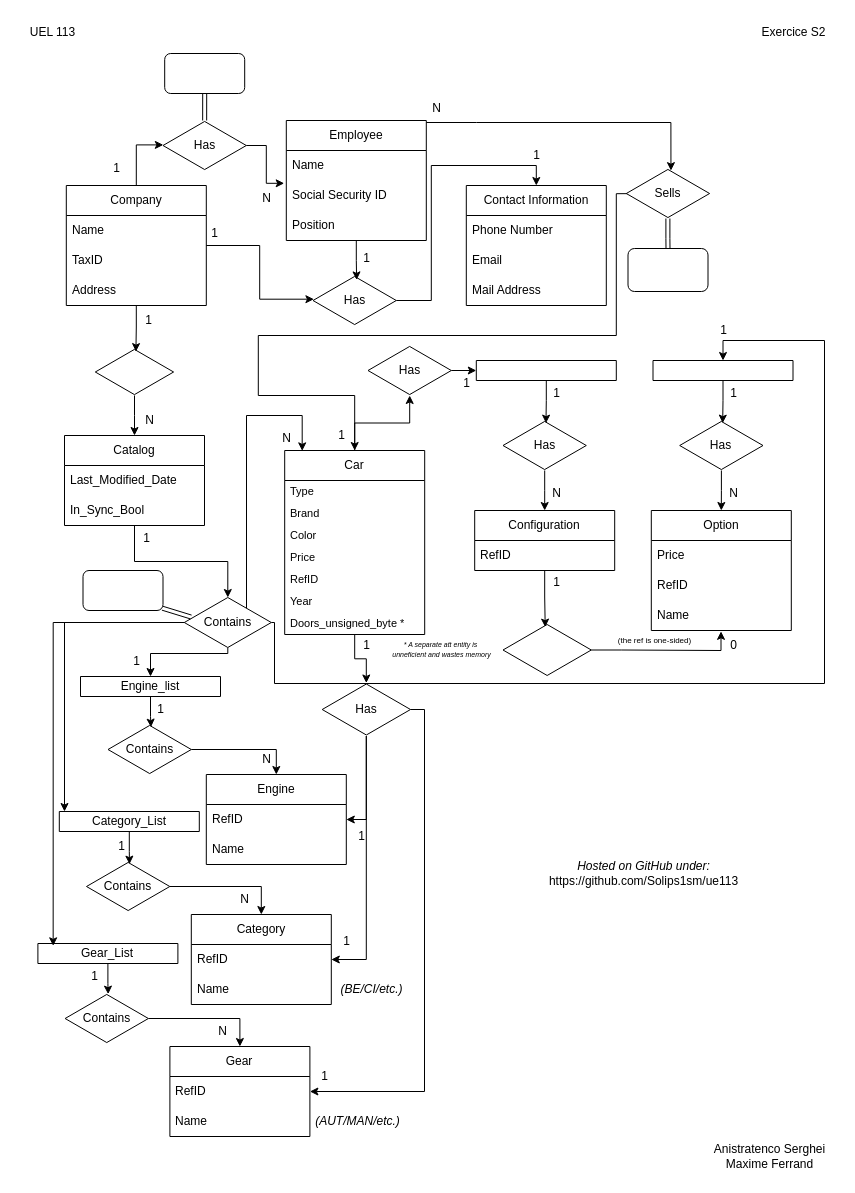
Some shapes in this 855 by 1193 pixel diagram are drawn without their labels. Each missing label, with the centre of its shape:
Configuration_list: the point at 545,370
Hosts: the point at 134,372
Listing_Started Listing_Ended: the point at 122,590
Options_list: the point at 722,370
Price Taxes Date: the point at 667,270
References: the point at 546,649
Salary Start_date: the point at 204,73
